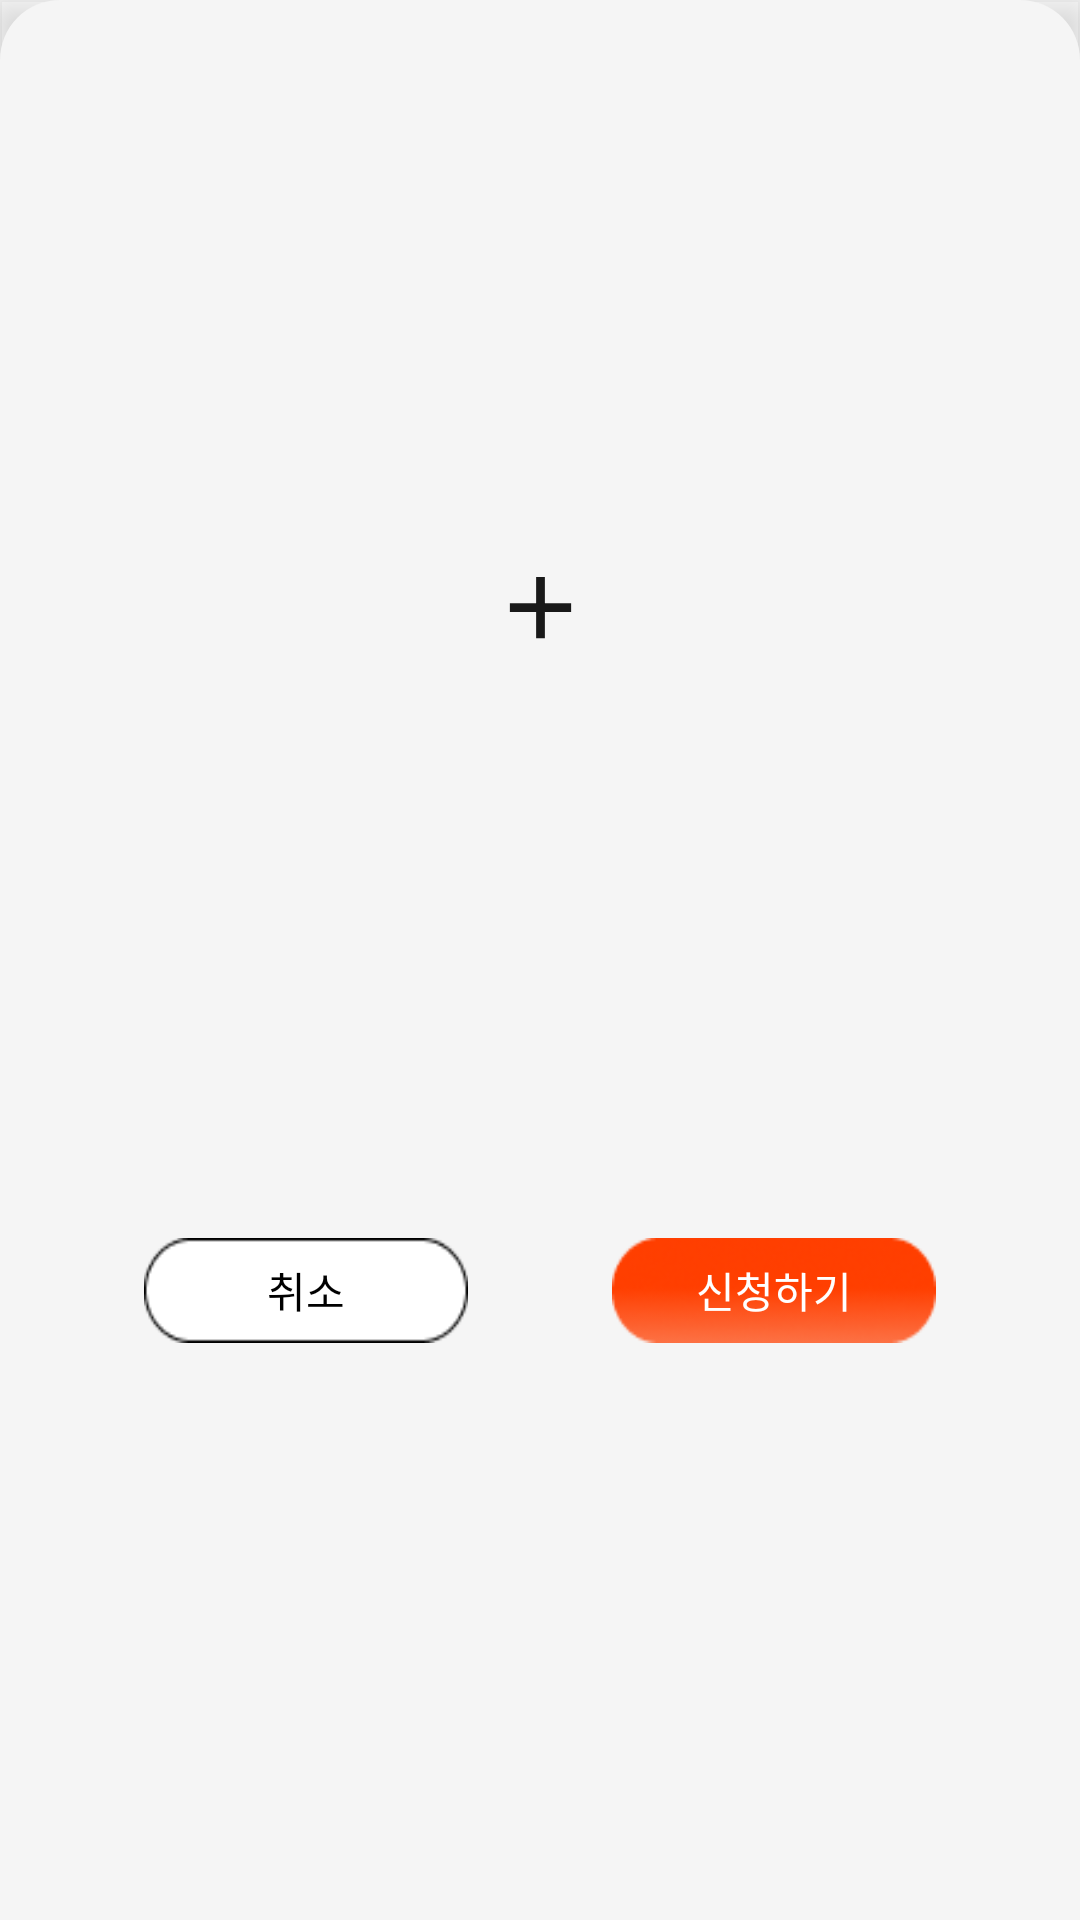

Icon bounding boxes for this 1080px×1920px phone screenshot, format [x1,y1,x2,y2]:
add: [509,577,572,639]
